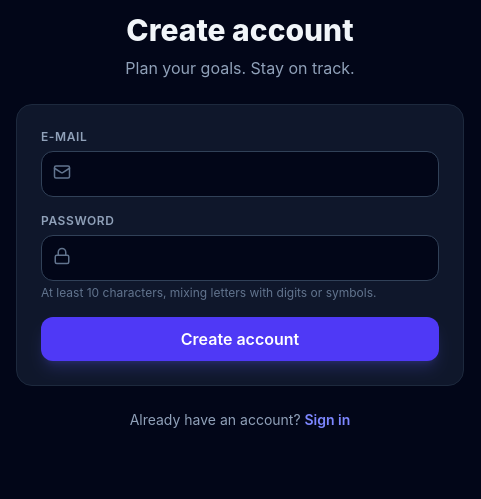
Test: AuthPage › reports a duplicate e-mail on registration
Type "me@example.com" into the field labelled "E-mail" at x=240, y=174, box [41,151,439,197]
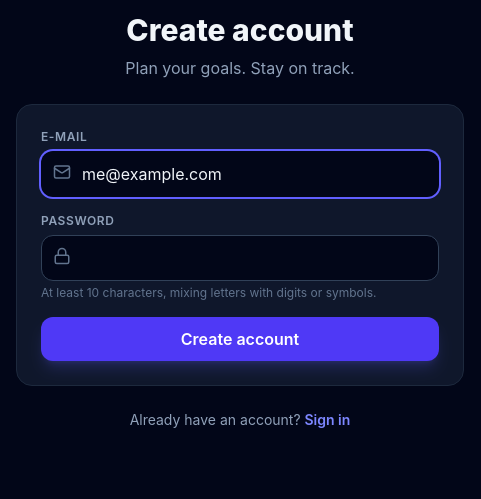
Type "long-enough-1" into the password field labelled "Password" at x=240, y=258, box [41,235,439,281]
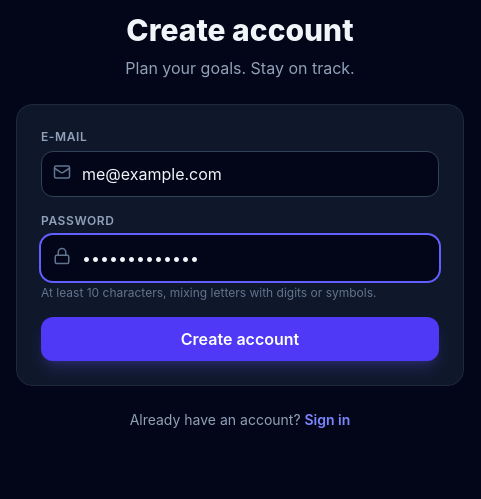
Click the button "Create account" at x=240, y=339, box [41,317,439,361]
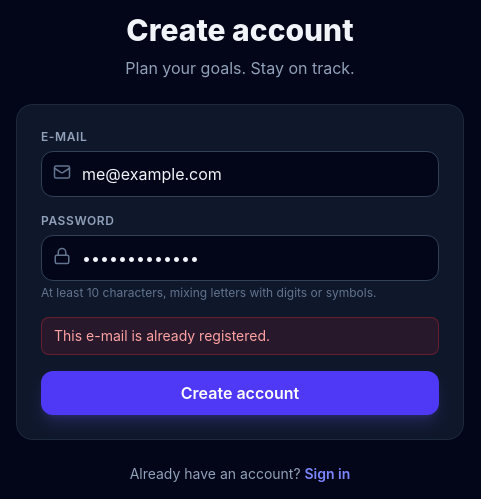
Check: the text "This e-mail is already registered." is shown, box [41,317,439,355]
